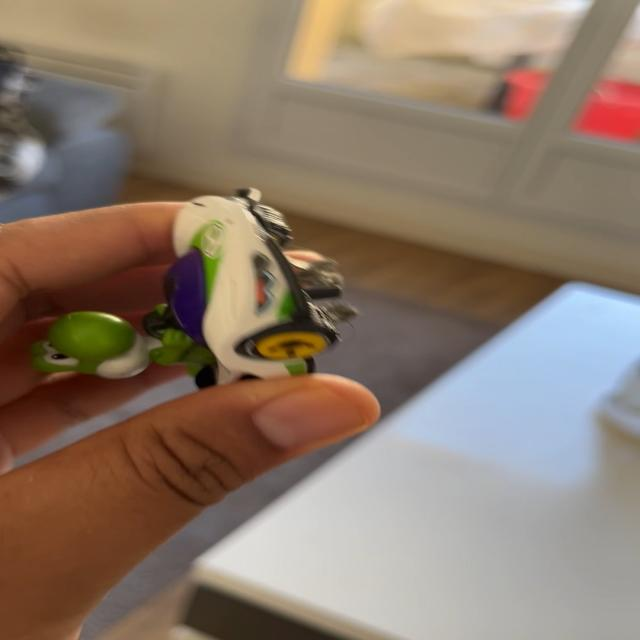yoshi: (22, 180, 366, 416)
